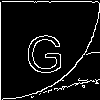G: (24, 25, 64, 74)
